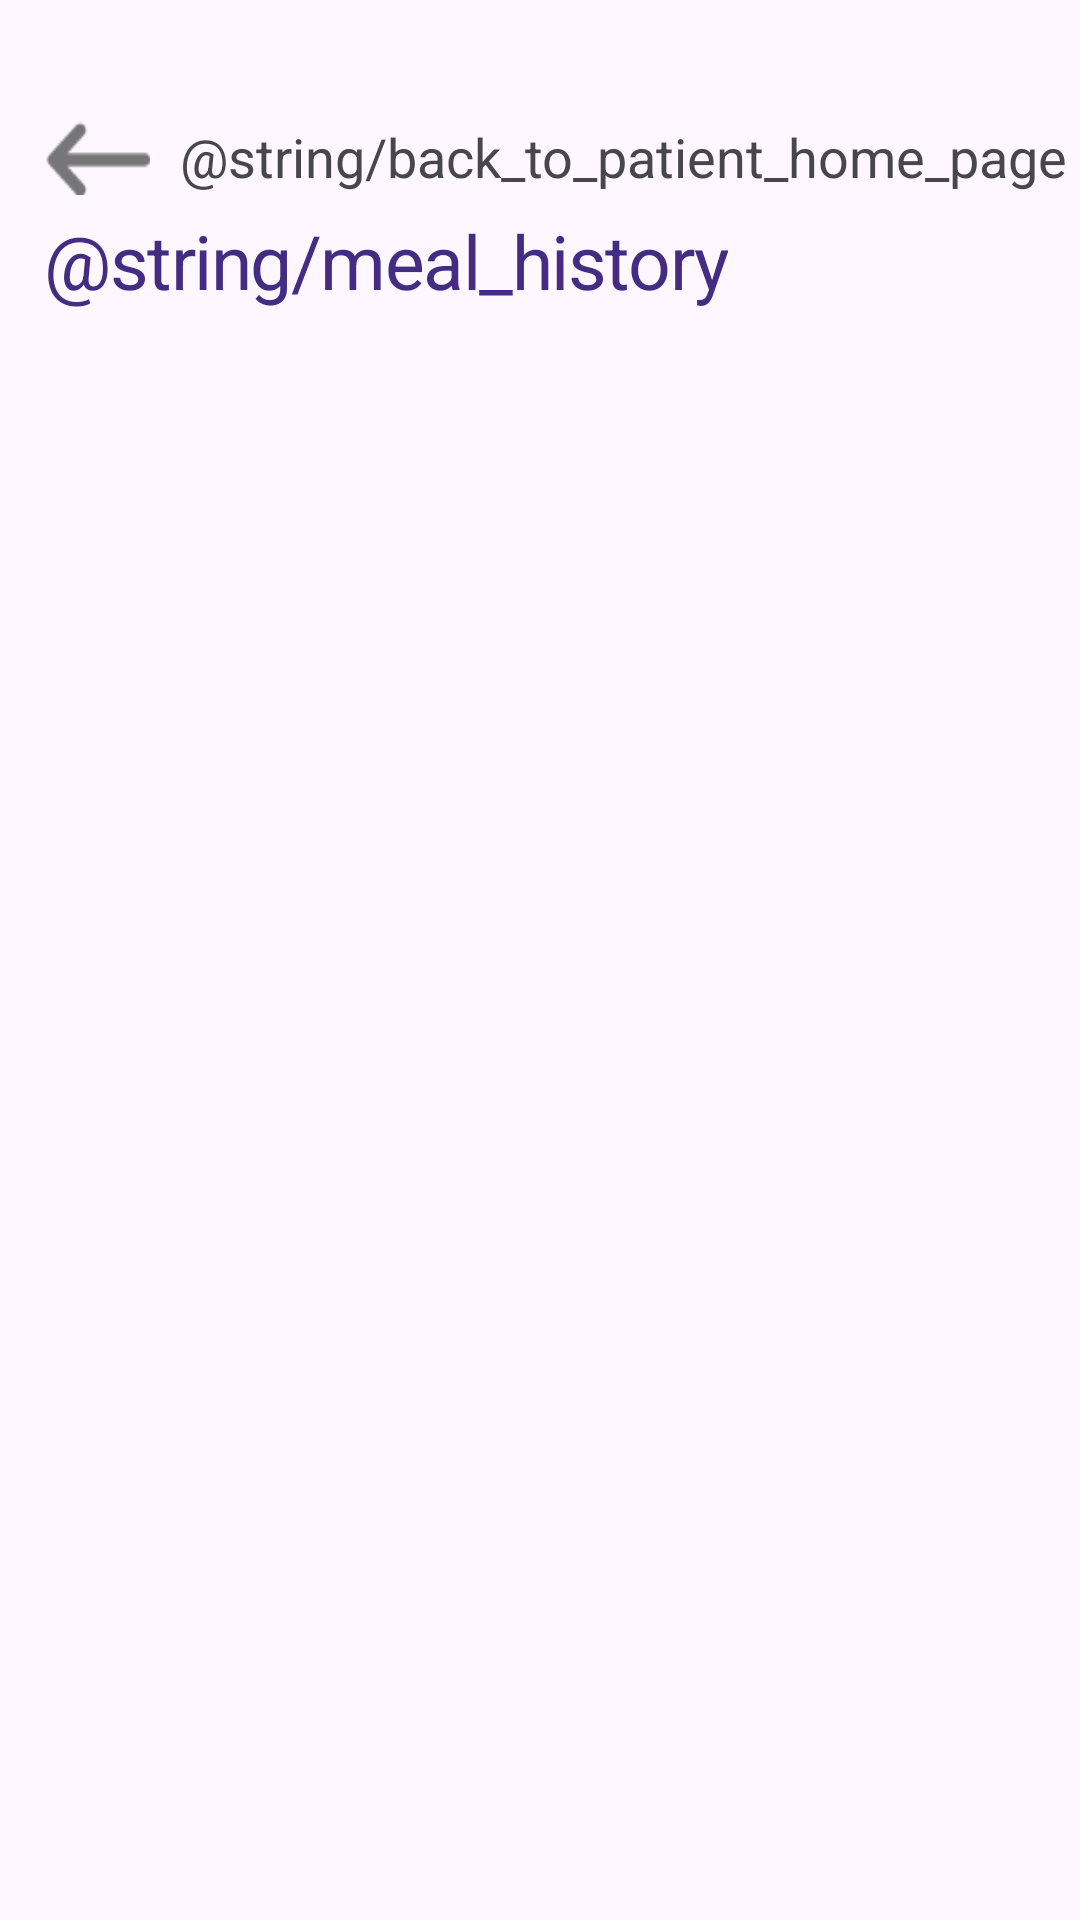

Icon bounding boxes for this 1080w x 1920h phone screenshot, format (x1, y1, x2, y2):
arrow back: (46, 122, 150, 195)
